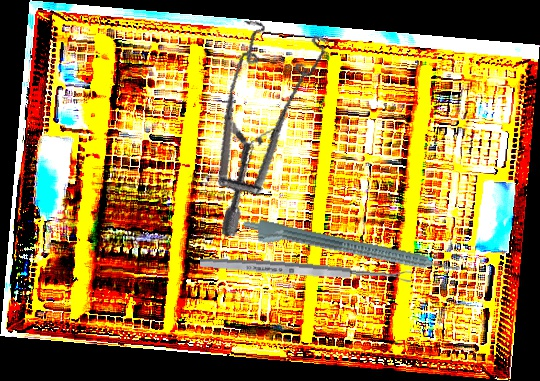Handpiece: (238, 216, 463, 286)
Speculum: (181, 6, 364, 238)
Surgical Spoon: (199, 255, 413, 285)
